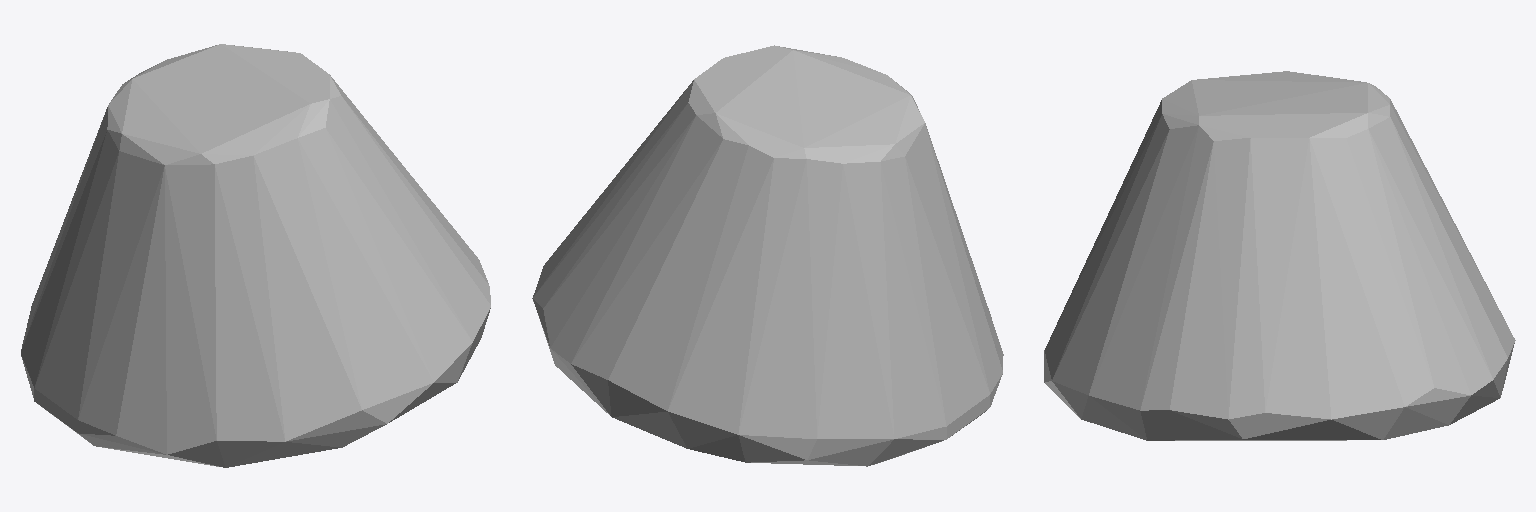
The robot description file, URDF, robot "root":
<robot name="root">
  <link name="link_thingiverse~lampshade_5275495_convex_piece_0">
    <inertial>
      <origin rpy="0 0 0" xyz="0 0 0"/>
      <mass value="7.38E-01"/>
      <inertia ixx="4.69E-04" ixy="-8.43E-07" ixz="1.67E-05" iyy="4.67E-04" iyz="2.17E-06" izz="5.67E-04"/>
    </inertial>
    <visual>
      <origin rpy="0 0 0" xyz="0 0 0"/>
      <geometry>
        <mesh filename="thingiverse~lampshade_5275495_convex_piece_0.obj" scale="1.0000E+00 1.0000E+00 1.0000E+00"/>
      </geometry>
      <material name="">
        <color rgba="7.50E-01 7.50E-01 7.50E-01 1"/>
      </material>
    </visual>
    <collision>
      <origin rpy="0 0 0" xyz="0 0 0"/>
      <geometry>
        <mesh filename="thingiverse~lampshade_5275495_convex_piece_0.obj" scale="1.0000E+00 1.0000E+00 1.0000E+00"/>
      </geometry>
    </collision>
  </link>
</robot>

--- Render facts (derived) ---
3 views of the same robot in one strip: view 1: azimuth 30°, elevation 25°; view 2: azimuth 150°, elevation 25°; view 3: azimuth 270°, elevation 25° (orthographic).
Robot: root — 1 links, 0 joints (none); root link link_thingiverse~lampshade_5275495_convex_piece_0; default pose: every joint at zero.
Links seen in each view (by area): view 1: link_thingiverse~lampshade_5275495_convex_piece_0; view 2: link_thingiverse~lampshade_5275495_convex_piece_0; view 3: link_thingiverse~lampshade_5275495_convex_piece_0.
Boxes of the visible links, left/top/right/bottom form: link_thingiverse~lampshade_5275495_convex_piece_0: left=21, top=44, right=490, bottom=467; link_thingiverse~lampshade_5275495_convex_piece_0: left=532, top=45, right=1003, bottom=466; link_thingiverse~lampshade_5275495_convex_piece_0: left=1044, top=71, right=1515, bottom=440.
Bounding box of the posed robot: 0.091 × 0.0924 × 0.0664 m (x, y, z).
Meshes: 1 distinct files referenced, 1 mesh visuals loaded (1 OBJ).
